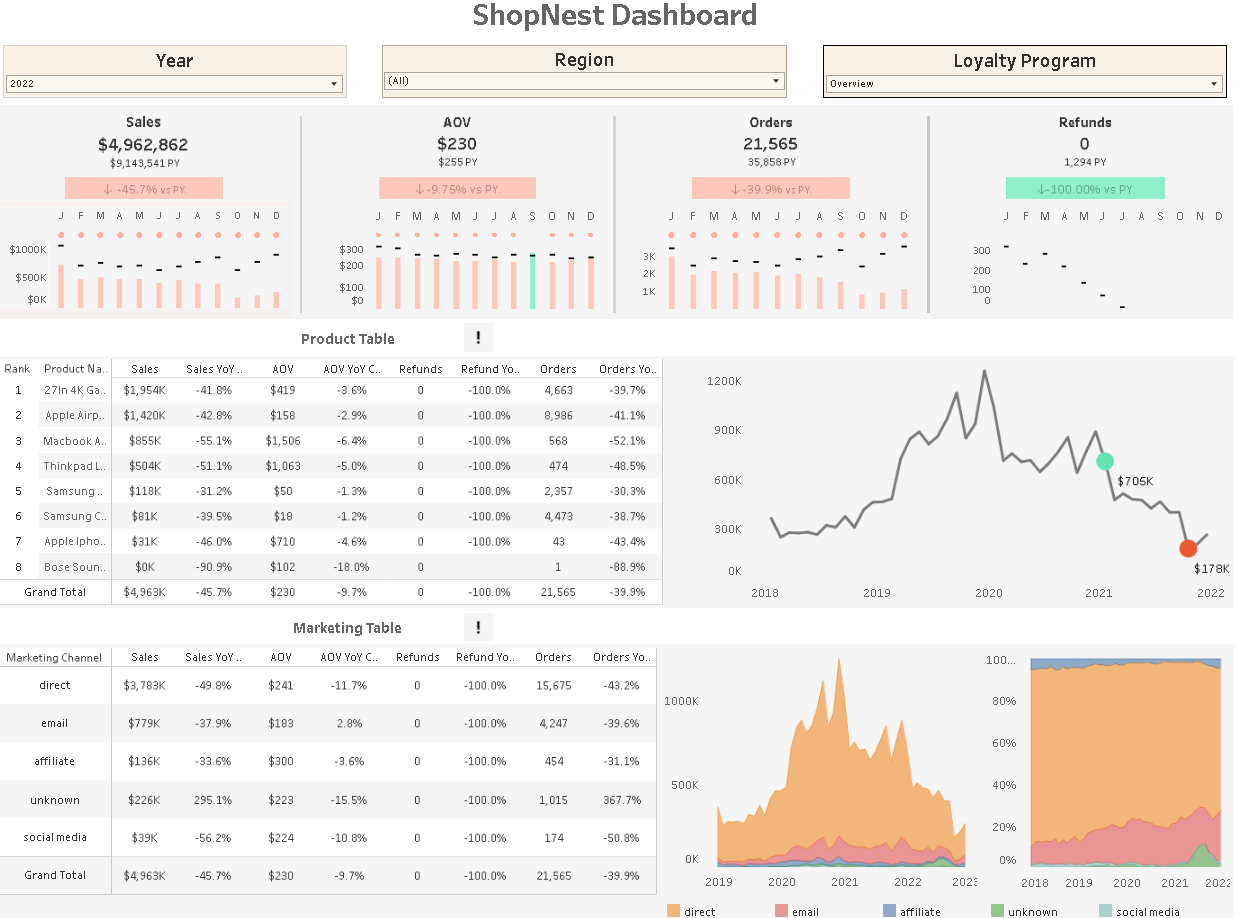

Layout of this report page (visuals, bound fields, positions):
{"tool":"tableau","page":{"name":"E-Commerce Dashboard","canvas":[1466,1068],"ordinal":0},"visuals":[{"type":"blank","box":[8,8,37,1052]},{"type":"text","box":[45,8,1375.8,54]},{"type":"blank","box":[1420.8,8,37.2,1052]},{"type":"parameter","param":"[Parameters].[Parameter 1]","box":[49,66,390,67]},{"type":"blank","box":[439,66,32,67]},{"type":"filter","title":"Sales Text","param":"[federated.0xa2xj31ri3njg17zrqng1dpn05a].[none:REGION:nk]","box":[471,66,456.9,67]},{"type":"blank","box":[927.9,66,32,67]},{"type":"parameter","param":"[Parameters].[Year Selected (copy)_1142506971504132098]","box":[959.9,66,456.9,67]},{"type":"worksheet","title":"Sales Text","mark":"Automatic","box":[47,139,325.7,74]},{"type":"blank","box":[372.7,139,23,234]},{"type":"worksheet","title":"AOV Text","mark":"Automatic","box":[395.7,139,325.7,74]},{"type":"blank","box":[721.4,139,23,234]},{"type":"worksheet","title":"Orders Text","mark":"Automatic","box":[744.4,139,325.7,74]},{"type":"blank","box":[1070.1,139,23,234]},{"type":"worksheet","title":"Refund Text","mark":"Automatic","box":[1093.1,139,325.7,74]},{"type":"blank","box":[47,213,71,32]},{"type":"worksheet","title":"Sales BTN","mark":"Square","box":[118,213,183.7,32]},{"type":"blank","box":[301.7,213,71,32]},{"type":"blank","box":[395.7,213,71,32]},{"type":"worksheet","title":"AOV BTN","mark":"Square","box":[466.7,213,183.7,32]},{"type":"blank","box":[650.4,213,71,32]},{"type":"blank","box":[744.4,213,71,32]},{"type":"worksheet","title":"Orders BTN","mark":"Square","box":[815.4,213,183.7,32]},{"type":"blank","box":[999.1,213,71,32]},{"type":"blank","box":[1093.1,213,71,32]},{"type":"worksheet","title":"Refund BTN","mark":"Square","box":[1164.1,213,183.7,32]},{"type":"blank","box":[1347.8,213,71,32]},{"type":"worksheet","title":"Sales Graph","mark":"Bar","rows":["Calculation_974466410042851328","Selected Year (copy)_974466410043158529"],"cols":["PURCHASE_TS","YoY Change Sign (copy)_974466410044526596"],"box":[47,245,325.7,128]},{"type":"worksheet","title":"AOV Graph","mark":"GanttBar","rows":["Orders Selected Year (copy)_1273955785422471179","Orders Selected Previous Year (copy)_1273955785422450698"],"cols":["PURCHASE_TS","● < Sales (copy)_1273955785422213128"],"box":[395.7,245,325.7,128]},{"type":"worksheet","title":"Orders Graph","mark":"Automatic","rows":["Selected Sales Year (copy)_1273955785416581127","Sales Previous Year  (copy)_1273955785416327171"],"cols":["PURCHASE_TS","● < Sales (copy)_1273955785415774208"],"box":[744.4,245,325.7,128]},{"type":"worksheet","title":"Refund Graph","mark":"Automatic","rows":["Refund Year (copy)_1020628307801571330","Refund Selected Year  (copy)_1020628307802804227"],"cols":["START_OF_PURCHASE_MONTH","● < Sales (copy)_1020628307807887366"],"box":[1093.1,245,325.7,128]},{"type":"blank","box":[49,379,258.4,32]},{"type":"text","box":[307.4,379,258.4,32]},{"type":"worksheet","title":"Product Info Button","mark":"Shape","box":[565.8,379,32,32]},{"type":"blank","box":[597.8,379,819,32]},{"type":"worksheet","title":"Products Table","mark":"Automatic","rows":["Calculation_1343198631543824384","PRODUCT_NAME"],"box":[45,415,746,281.5]},{"type":"worksheet","title":"Updated Product Graph","mark":"Automatic","rows":["Selected Sales Year (copy)_1098878351684214784","Max Selected Year (copy)_1439463073793093637"],"cols":["START_OF_PURCHASE_MONTH"],"box":[791,415,629.8,281.5]},{"type":"blank","box":[49,700.5,258.4,32]},{"type":"text","box":[307.4,700.5,258.4,32]},{"type":"worksheet","title":"Marketing Info Button","mark":"Shape","box":[565.8,700.5,32,32]},{"type":"blank","box":[597.8,700.5,819,32]},{"type":"worksheet","title":"Marketing Table","mark":"Automatic","rows":["MARKETING_CHANNEL"],"box":[45,736.5,739,281.5]},{"type":"worksheet","title":"Market Graph","mark":"Area","rows":["Selected Sales Year (copy)_1098878351684214784"],"cols":["START_OF_PURCHASE_MONTH"],"box":[784,736.5,357,281.5]},{"type":"worksheet","title":"Market Mix Graph","mark":"Area","cols":["START_OF_PURCHASE_MONTH"],"box":[1141,736.5,279.8,281.5]},{"type":"blank","box":[45,1018,739,42]},{"type":"legend","title":"Market Graph","param":"[federated.0xa2xj31ri3njg17zrqng1dpn05a].[none:MARKETING_CHANNEL:nk]","box":[784,1018,636.8,42]}]}

Visuals, with their boxes in screenshot pixels (x1, y1, x2, y2), scaled from the page's 1466x1068 canvas onto the 1239x918 screenshot:
blank: region(7, 7, 38, 911)
text: region(38, 7, 1201, 53)
blank: region(1201, 7, 1232, 911)
parameter: region(41, 57, 371, 114)
blank: region(371, 57, 398, 114)
"Sales Text" filter: region(398, 57, 784, 114)
blank: region(784, 57, 811, 114)
parameter: region(811, 57, 1197, 114)
"Sales Text" worksheet: region(40, 119, 315, 183)
blank: region(315, 119, 334, 321)
"AOV Text" worksheet: region(334, 119, 610, 183)
blank: region(610, 119, 629, 321)
"Orders Text" worksheet: region(629, 119, 904, 183)
blank: region(904, 119, 924, 321)
"Refund Text" worksheet: region(924, 119, 1199, 183)
blank: region(40, 183, 100, 211)
"Sales BTN" worksheet (Square marks): region(100, 183, 255, 211)
blank: region(255, 183, 315, 211)
blank: region(334, 183, 394, 211)
"AOV BTN" worksheet (Square marks): region(394, 183, 550, 211)
blank: region(550, 183, 610, 211)
blank: region(629, 183, 689, 211)
"Orders BTN" worksheet (Square marks): region(689, 183, 844, 211)
blank: region(844, 183, 904, 211)
blank: region(924, 183, 984, 211)
"Refund BTN" worksheet (Square marks): region(984, 183, 1139, 211)
blank: region(1139, 183, 1199, 211)
"Sales Graph" worksheet (Bar marks): region(40, 211, 315, 321)
"AOV Graph" worksheet (GanttBar marks): region(334, 211, 610, 321)
"Orders Graph" worksheet: region(629, 211, 904, 321)
"Refund Graph" worksheet: region(924, 211, 1199, 321)
blank: region(41, 326, 260, 353)
text: region(260, 326, 478, 353)
"Product Info Button" worksheet (Shape marks): region(478, 326, 505, 353)
blank: region(505, 326, 1197, 353)
"Products Table" worksheet: region(38, 357, 669, 599)
"Updated Product Graph" worksheet: region(669, 357, 1201, 599)
blank: region(41, 602, 260, 630)
text: region(260, 602, 478, 630)
"Marketing Info Button" worksheet (Shape marks): region(478, 602, 505, 630)
blank: region(505, 602, 1197, 630)
"Marketing Table" worksheet: region(38, 633, 663, 875)
"Market Graph" worksheet (Area marks): region(663, 633, 964, 875)
"Market Mix Graph" worksheet (Area marks): region(964, 633, 1201, 875)
blank: region(38, 875, 663, 911)
"Market Graph" legend: region(663, 875, 1201, 911)
